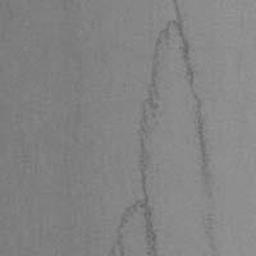Inclusion: (109, 0, 211, 256), (206, 212, 221, 256)
